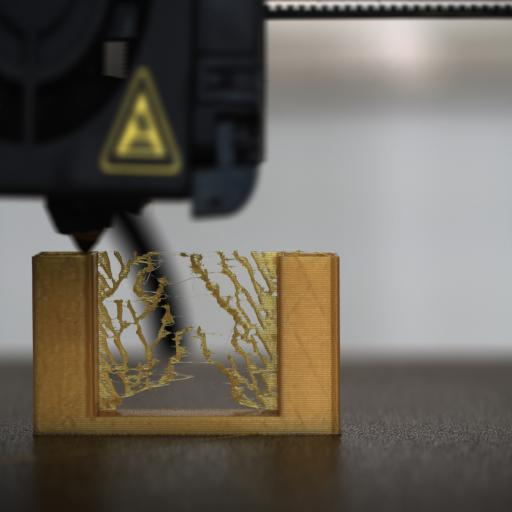stringing: (96, 248, 277, 408)
